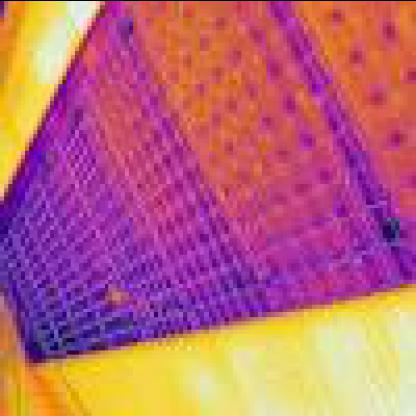Defects: (104, 287, 125, 312)
